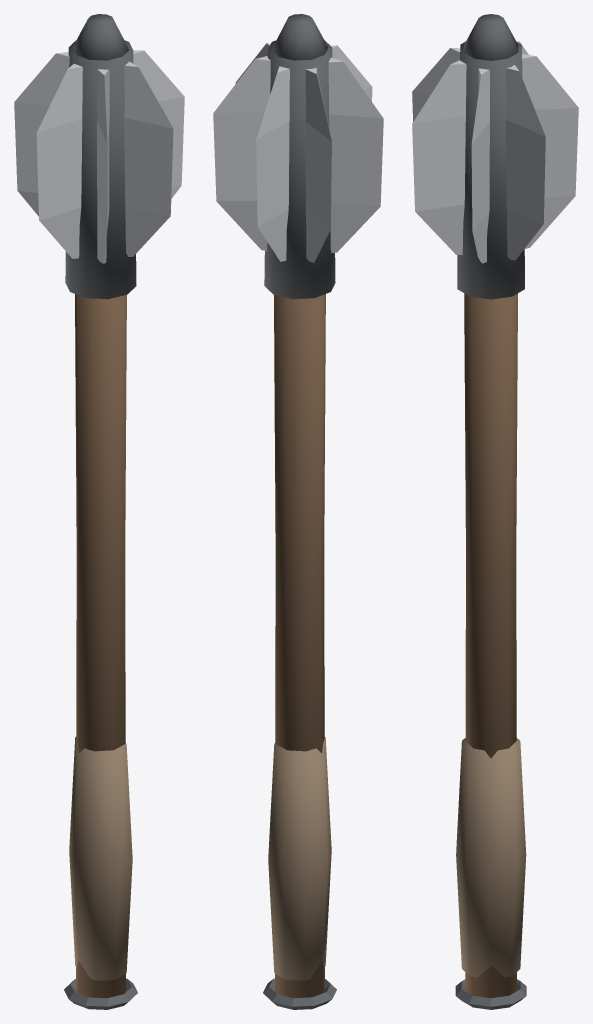
File: weapon_mace.glb
The picture shows the model from 3 angles, left to right: view 1: azimuth 30°, elevation 25°; view 2: azimuth 150°, elevation 25°; view 3: azimuth 270°, elevation 25°; orthographic projection.
Parts seen in each view (by area): view 1: weapon_mace; view 2: weapon_mace; view 3: weapon_mace.
Part boxes in pixels (left/top/right/bottom): weapon_mace: left=14, top=14, right=184, bottom=1009; weapon_mace: left=213, top=14, right=383, bottom=1009; weapon_mace: left=412, top=14, right=578, bottom=1009.
Size of the model in its own units: 0.1053 by 0.664 by 0.1027.
